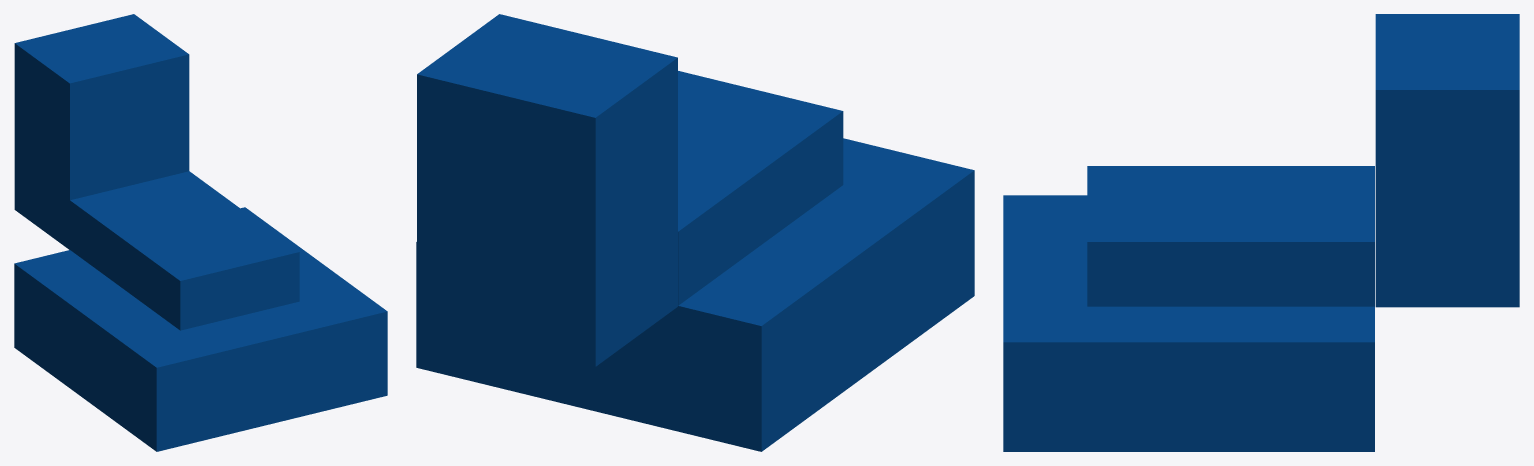
File: blue_truck_target.dae
3 views of the same model, side by side, from view 1: azimuth 30°, elevation 25°; view 2: azimuth 150°, elevation 25°; view 3: azimuth 270°, elevation 25° (orthographic). The views are drawn at different scales.
Visible parts, largest first — view 1: Cube_108; view 2: Cube_108; view 3: Cube_108.
Boxes of the visible parts, box(x1,y1,x2,y2) form: Cube_108: box(14, 14, 387, 451); Cube_108: box(416, 14, 974, 451); Cube_108: box(1003, 14, 1519, 451).
Size of the model in its own units: 0.29 by 0.4304 by 0.3005.
